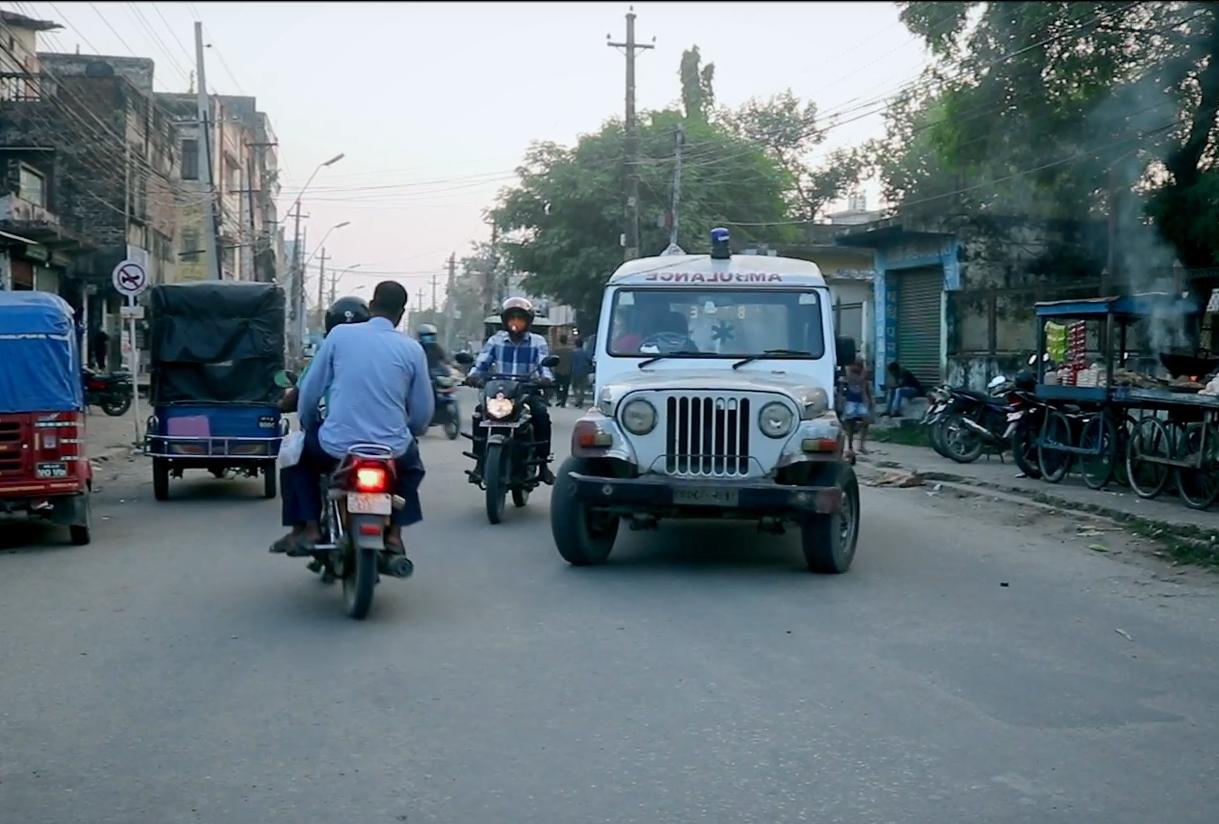ambulance: (551, 222, 870, 590)
auto_rickshaw: (0, 286, 99, 555)
bike: (277, 396, 423, 636), (450, 344, 551, 527)
e-rickshaw: (137, 270, 292, 505)
